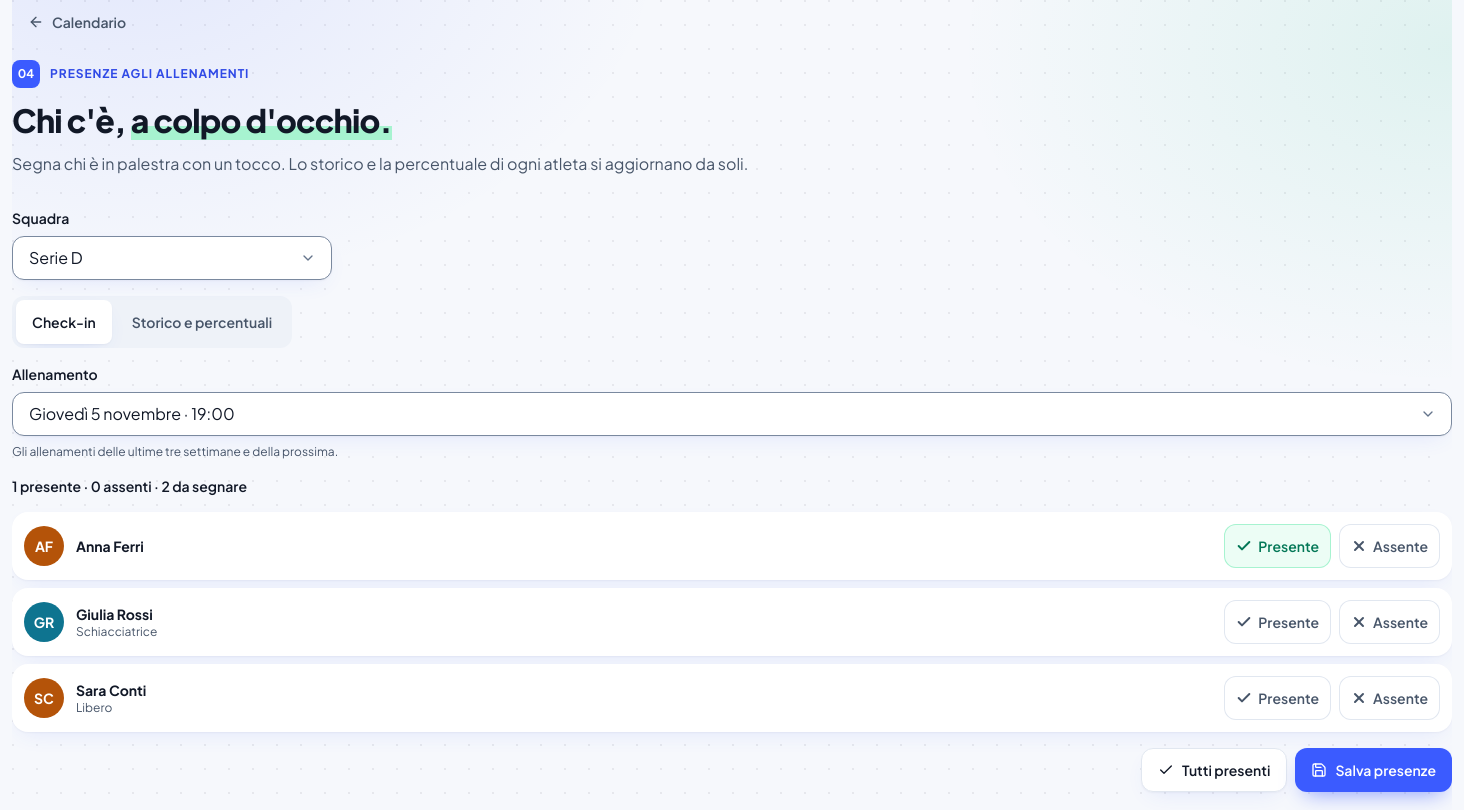
PresenzePage check-in › opens the latest training with one row per athlete and saves the marks in one request
Expected: the heading "Chi c'è, a colpo d'occhio." is shown, 12,100 -> 392,140
Expected: the dropdown labelled "Allenamento" shows "Giovedì 5 novembre · 19:00", 12,392 -> 1452,436
Click the button "Presente" in the row of "GR". click: coordinates (1278, 622)
box: 1224,600 -> 1331,644
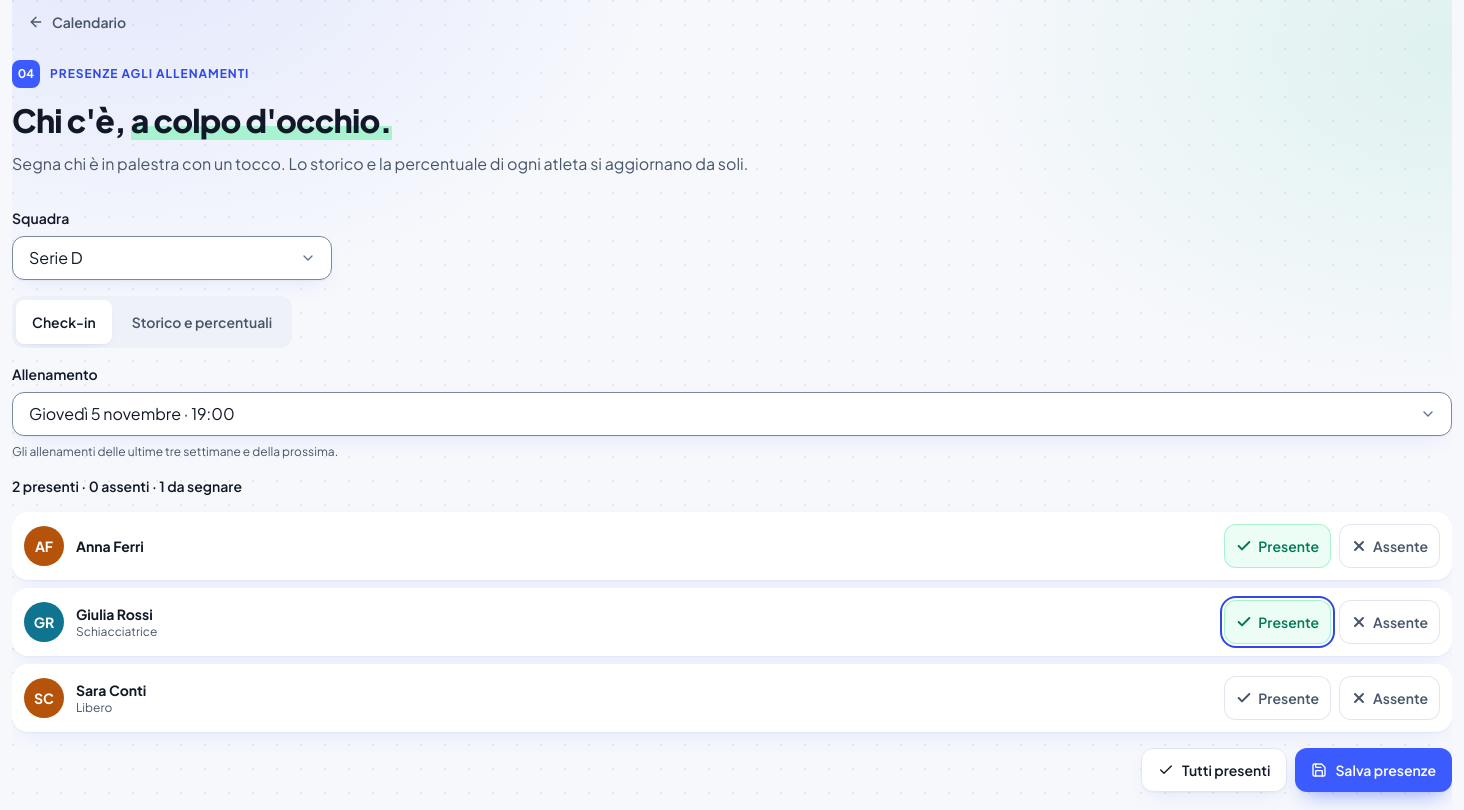
Click the button "Assente" in the row of "Sara Conti". click: coordinates (1390, 698)
box: 1339,676 -> 1440,720
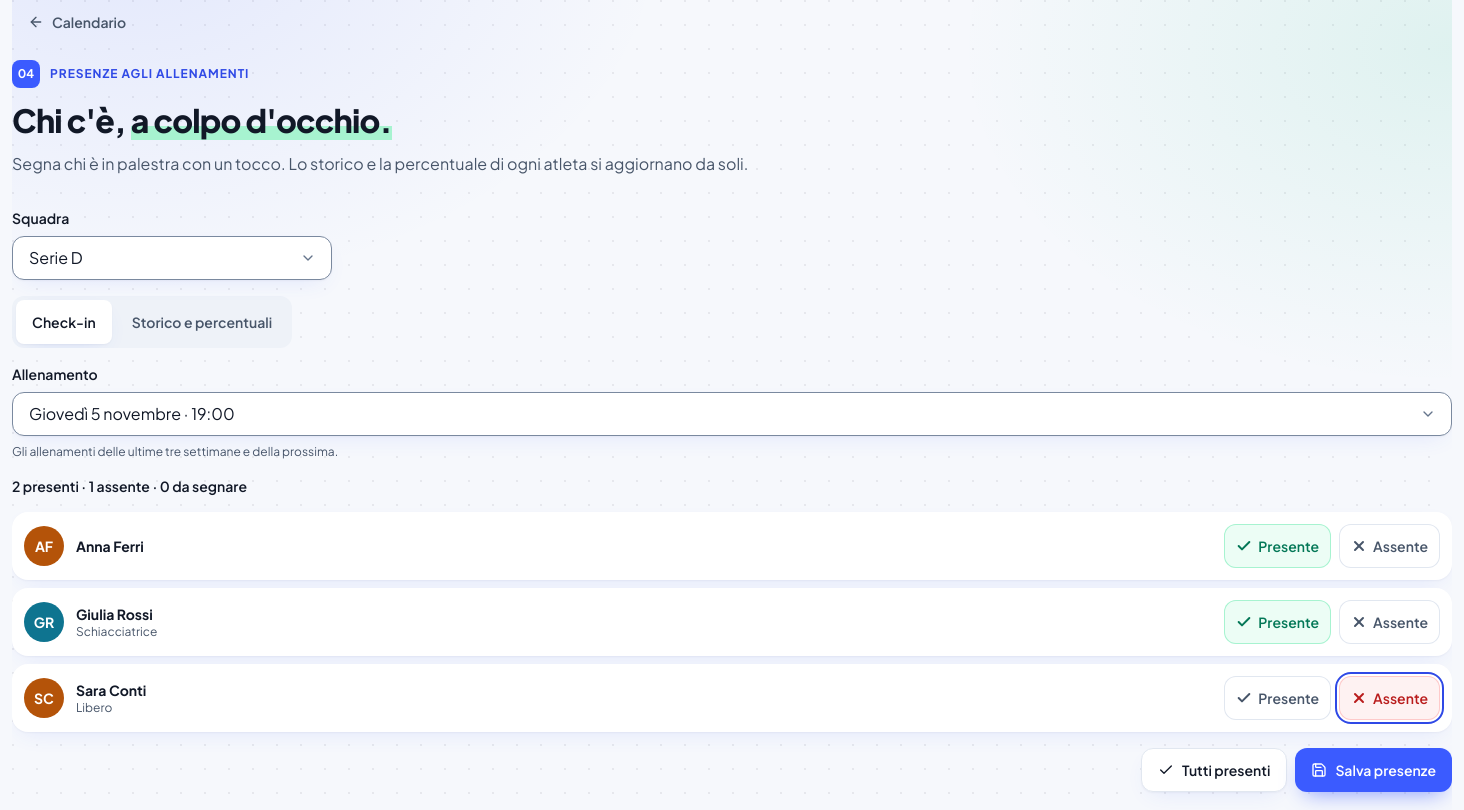
Result: the text "2 presenti · 1 assente · 0 da segnare" is shown at 12,477 -> 247,495
Click the button "Salva presenze". click: coordinates (1374, 770)
box: 1295,748 -> 1452,792
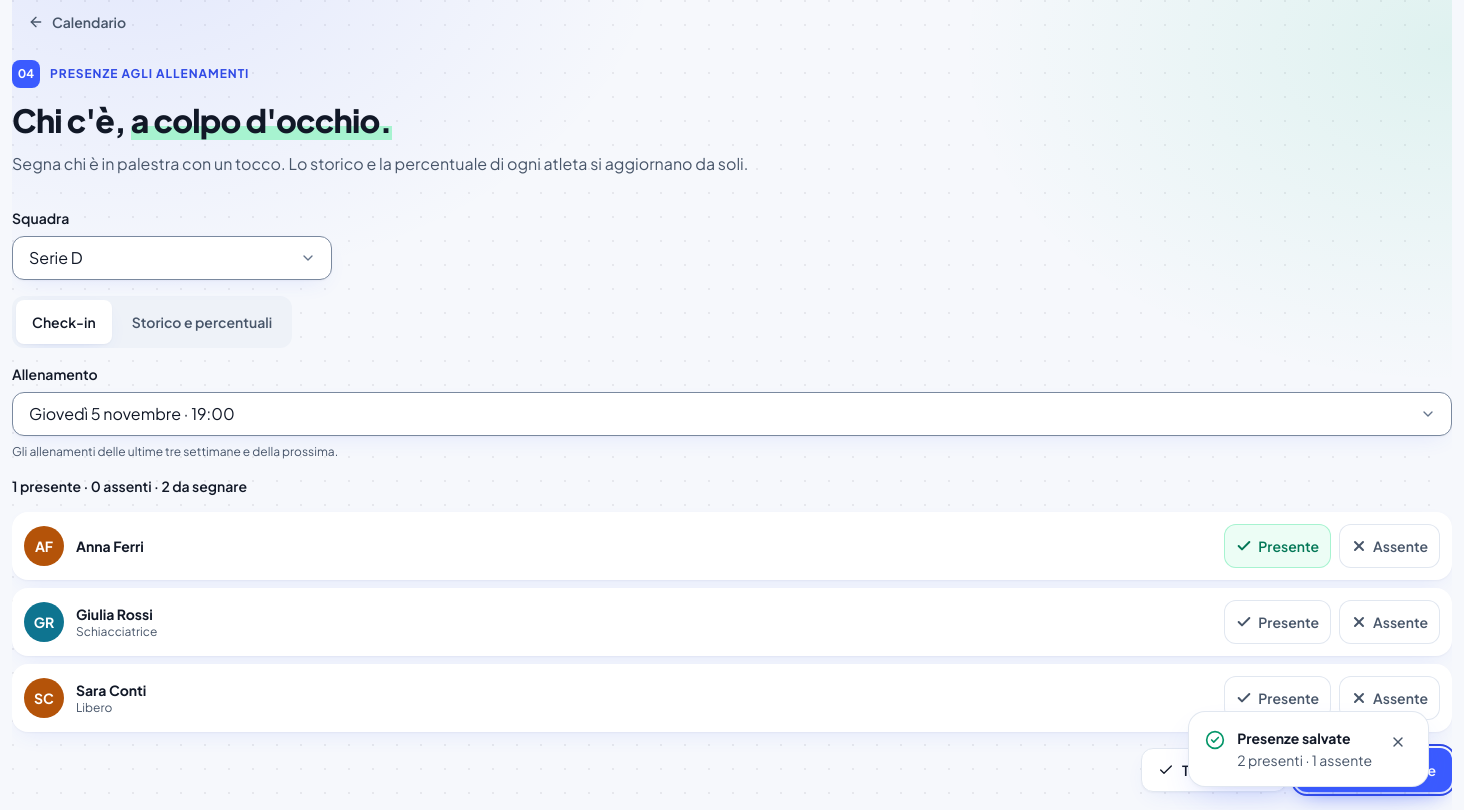
Result: the text "Presenze salvate" is shown at 1237,729 -> 1351,747
